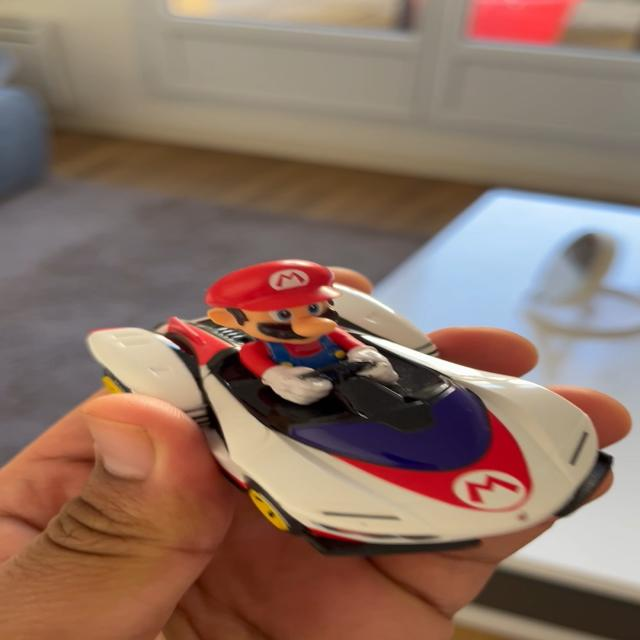mario: (51, 256, 636, 568)
